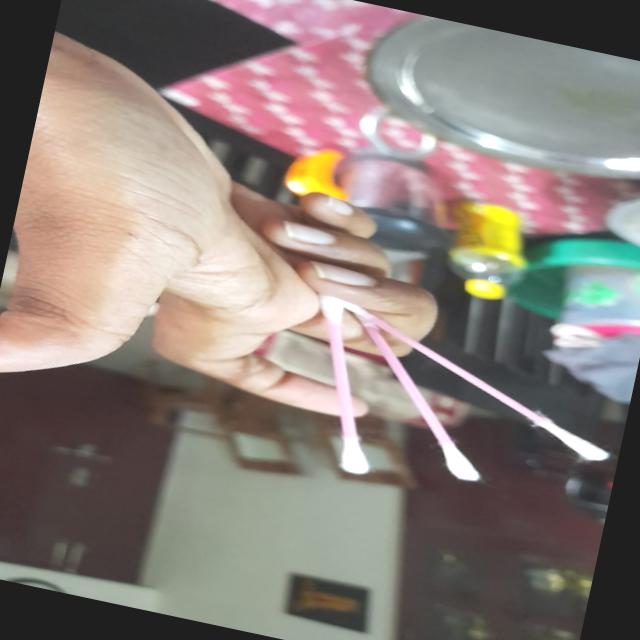Earbud - Non Recyclable: (285, 270, 640, 534), (0, 568, 75, 594)
